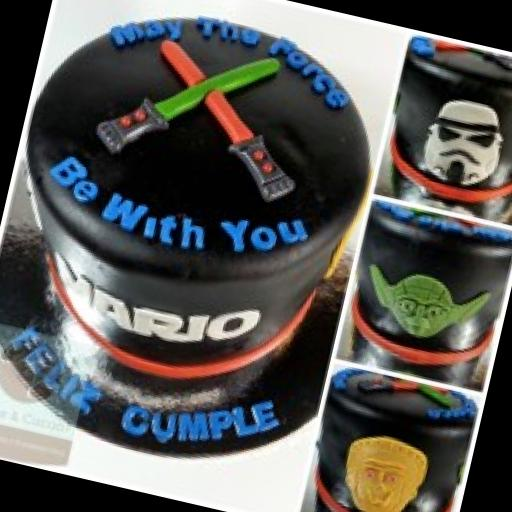lightsaber: (93, 24, 281, 185)
sith saber: (139, 41, 318, 204)
